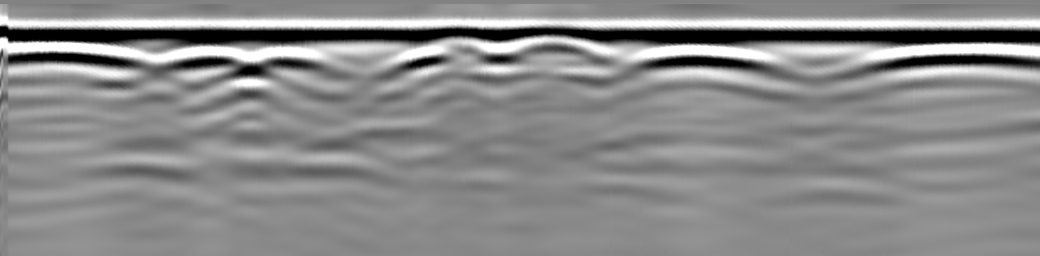pipe: (421, 26, 499, 57), (509, 27, 598, 54)
steel: (863, 46, 1040, 70), (164, 46, 327, 72), (3, 42, 140, 69), (632, 48, 774, 72)
